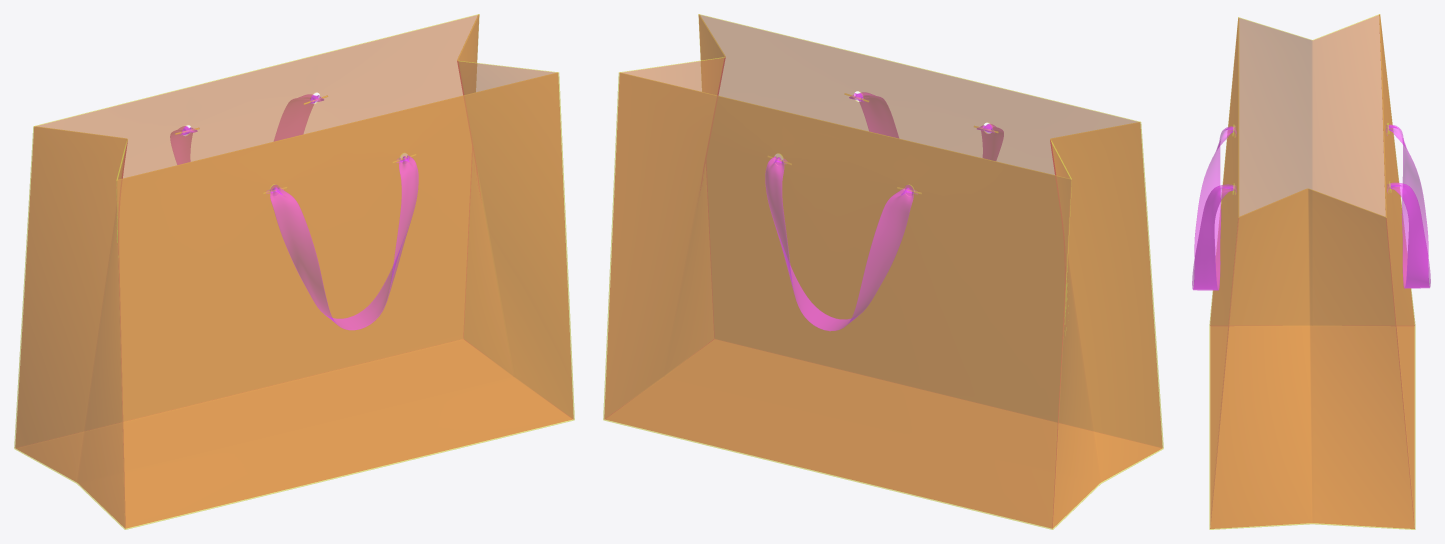
The model's file is wide_paper_bag.glb.
3 renders of one model, left to right at view 1: azimuth 30°, elevation 25°; view 2: azimuth 150°, elevation 25°; view 3: azimuth 270°, elevation 25°, orthographic. The views are drawn at different scales.
Parts seen in each view (by area): view 1: paper_wide_bag; view 2: paper_wide_bag; view 3: paper_wide_bag.
Boxes of the visible parts, <box> form: paper_wide_bag: <box>14,14,574,529</box>; paper_wide_bag: <box>603,14,1163,529</box>; paper_wide_bag: <box>1192,14,1430,529</box>.
Size of the model in its own units: 28.01 by 20.03 by 13.87.
